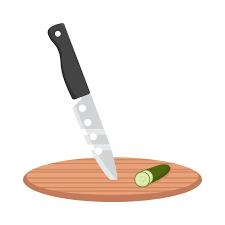Knife: (47, 22, 117, 180)
